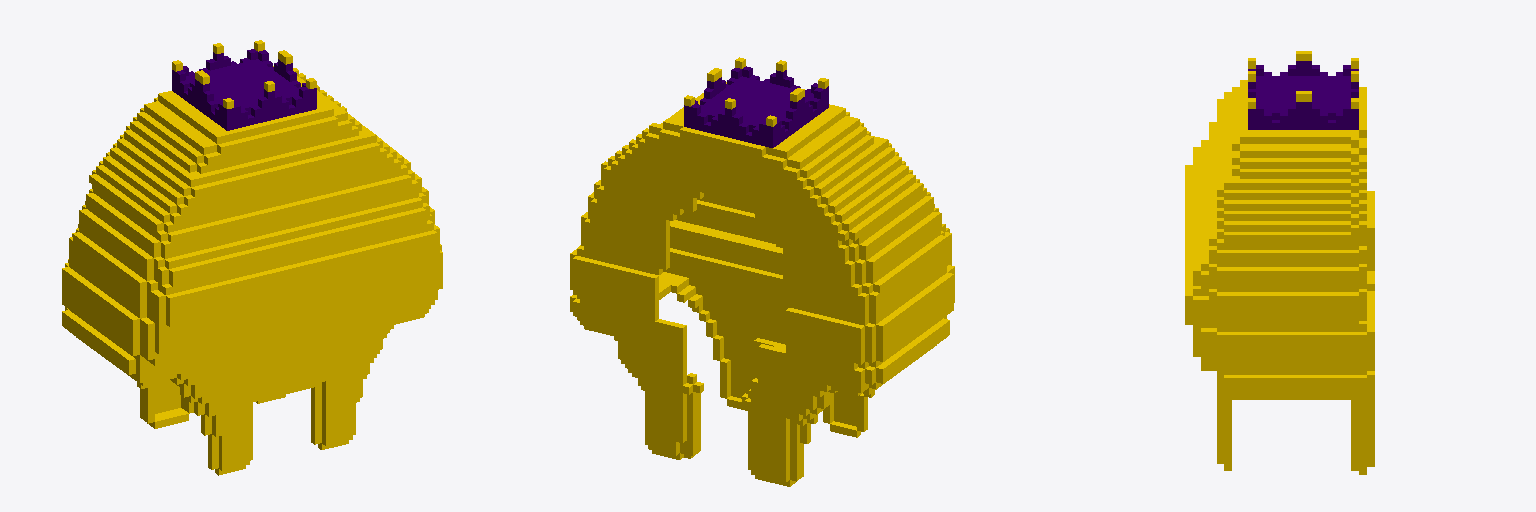
3 renders of one model, left to right at view 1: azimuth 30°, elevation 25°; view 2: azimuth 150°, elevation 25°; view 3: azimuth 270°, elevation 25°, orthographic.
Visible parts, largest first — view 1: object 1; view 2: object 1; view 3: object 1.
Boxes of the visible parts, <box> form: object 1: <box>62,40,442,475</box>; object 1: <box>570,57,954,486</box>; object 1: <box>1185,51,1374,474</box>.
Size of the model in its own units: 4.5 by 5.1 by 2.4.
Materials: 1 (1 with a texture image).